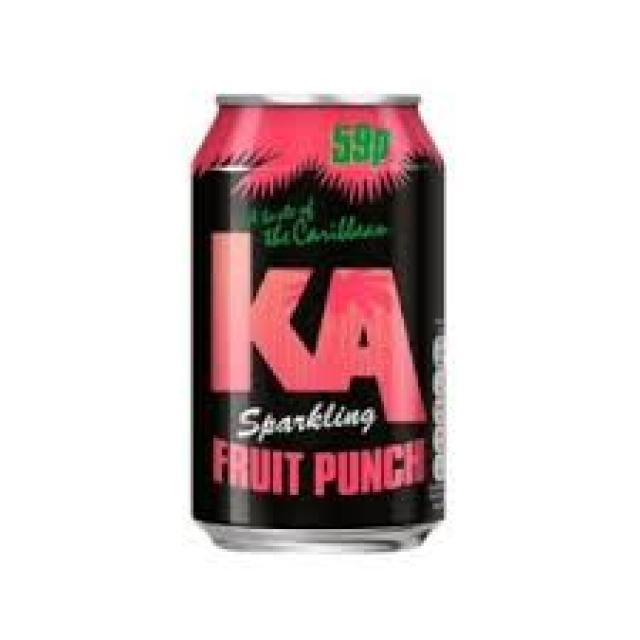Cans: (182, 77, 458, 563)
